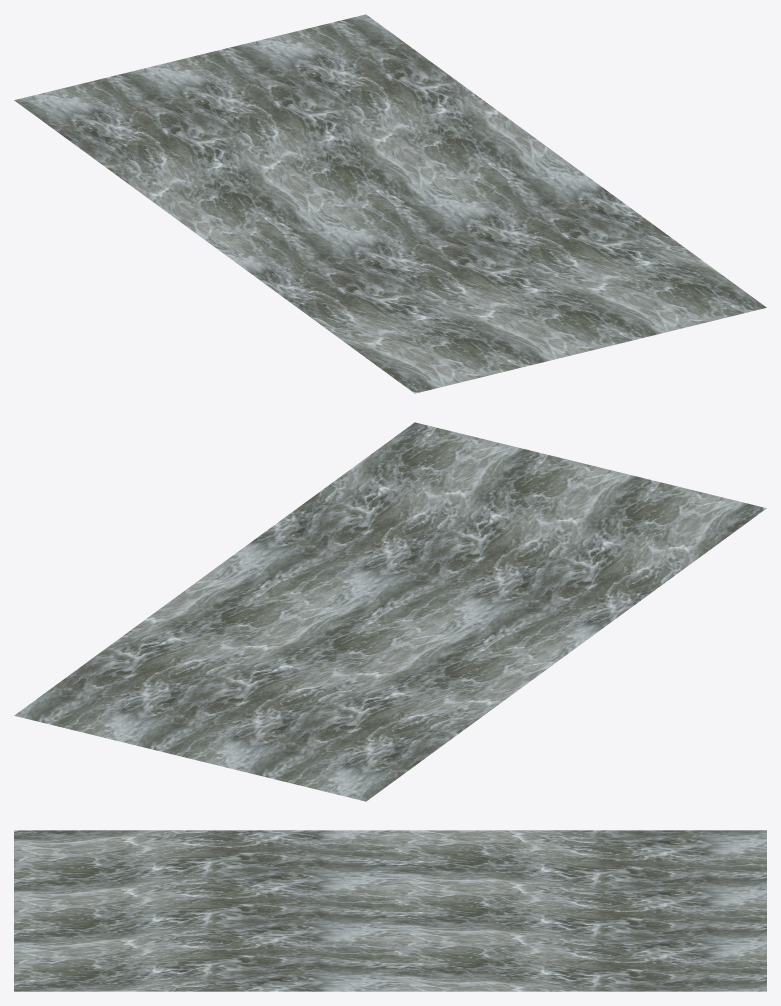
Rendered from SL_shui01.FBX.
The picture shows the model from 3 angles, top to bottom: view 1: azimuth 30°, elevation 25°; view 2: azimuth 150°, elevation 25°; view 3: azimuth 270°, elevation 25°; orthographic projection. The views are drawn at different scales.
Visible parts, largest first — view 1: SL_shui01; view 2: SL_shui01; view 3: SL_shui01.
Part boxes in pixels (x1,y1,x2,y2): SL_shui01: (14, 14, 766, 393); SL_shui01: (14, 422, 766, 801); SL_shui01: (14, 830, 766, 991).
Bounding box in the file's own units: 585 × 3.27e-13 × 1154.
